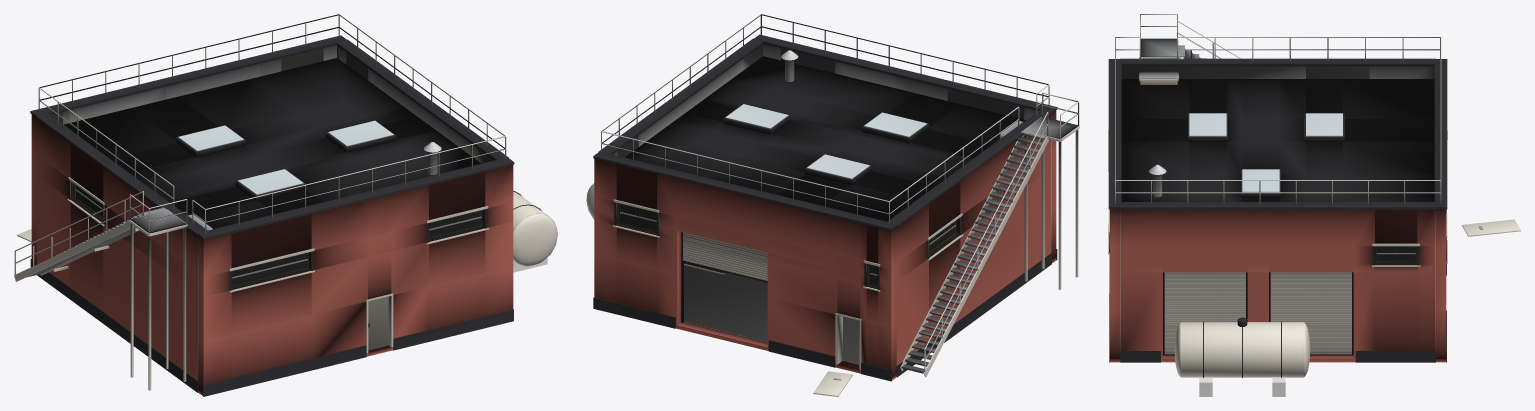
The model's file is factory2.glb.
3 renders of one model, left to right at view 1: azimuth 30°, elevation 25°; view 2: azimuth 150°, elevation 25°; view 3: azimuth 270°, elevation 25°, orthographic. The views are drawn at different scales.
Parts seen in each view (by area): view 1: PART; view 2: PART; view 3: PART.
Boxes of the visible parts, x1,y1,x2,y2 form: PART: [14, 14, 557, 396]; PART: [586, 14, 1079, 396]; PART: [1108, 14, 1520, 396].
Size of the model in its own units: 18.37 by 7.64 by 15.59.
